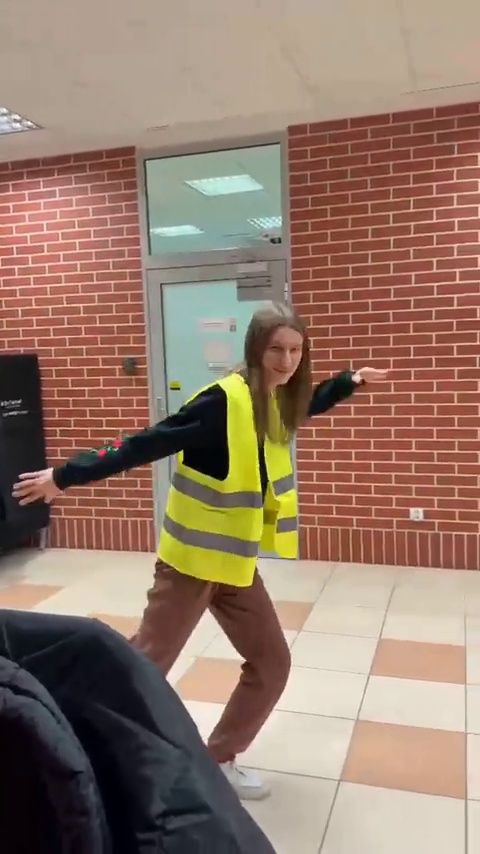vest: (151, 308, 325, 771)
